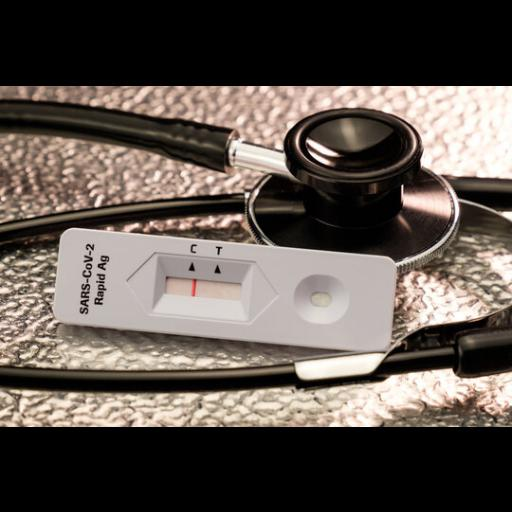Neg: (54, 227, 401, 351)
